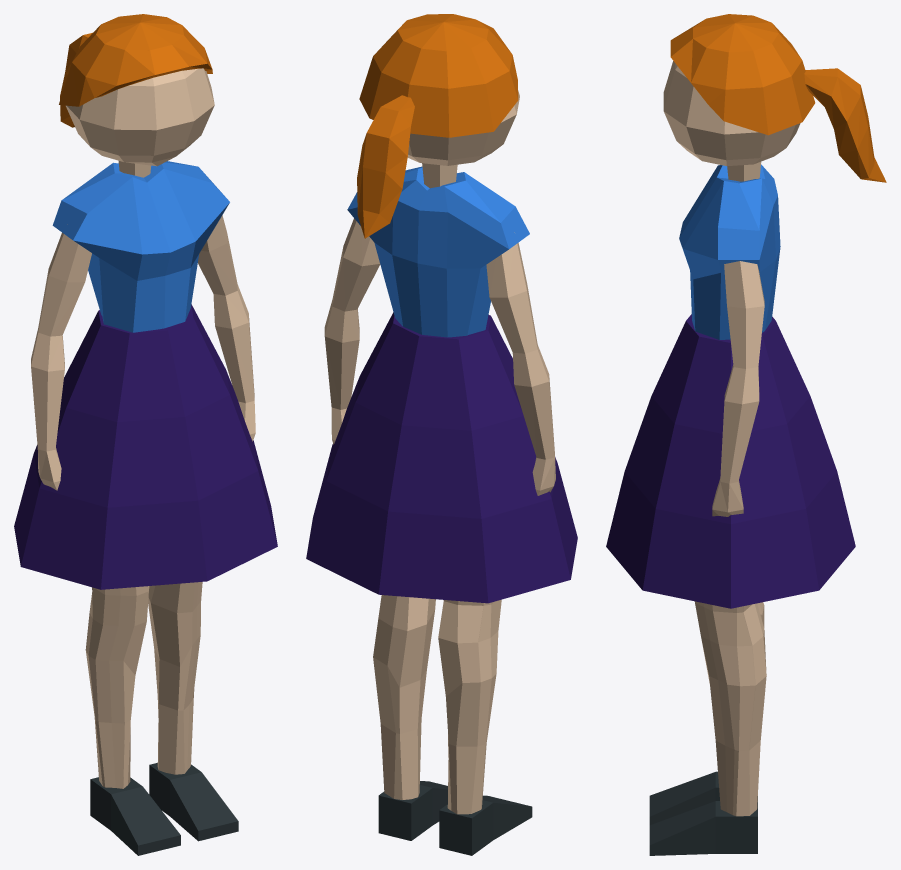
Rendered from Person4.FBX.
The picture shows the model from 3 angles, left to right: view 1: azimuth 30°, elevation 25°; view 2: azimuth 150°, elevation 25°; view 3: azimuth 270°, elevation 25°; orthographic projection. The views are drawn at different scales.
Visible parts, largest first — view 1: Cone001, Box019, Box018, Cylinder014, Sphere009, Sphere010, Box017, Box020, Cylinder017; view 2: Cone001, Box018, Box019, Sphere010, Cylinder014, Cylinder017, Box017, Sphere009, Box020, Cylinder015; view 3: Cone001, Sphere010, Box019, Box018, Cylinder014, Sphere009, Box020, Cylinder017, Box017.
Boxes of the visible parts, x1,y1,x2,y2 form: Cone001: (14, 304, 277, 589); Box019: (52, 161, 229, 332); Box018: (85, 582, 202, 788); Cylinder014: (31, 215, 255, 490); Sphere009: (66, 68, 214, 166); Sphere010: (59, 14, 212, 106); Box017: (90, 777, 180, 855); Box020: (149, 763, 238, 841); Cylinder017: (60, 32, 92, 127); Cone001: (306, 312, 577, 603); Box018: (373, 595, 501, 814); Box019: (347, 166, 529, 337); Sphere010: (359, 14, 518, 137); Cylinder014: (324, 218, 555, 495); Cylinder017: (357, 95, 414, 238); Box017: (439, 795, 532, 855); Sphere009: (407, 90, 519, 165); Box020: (378, 781, 447, 840); Cylinder015: (422, 163, 457, 188); Cone001: (606, 314, 855, 608); Sphere010: (670, 14, 815, 135); Box019: (679, 164, 780, 339); Box018: (694, 601, 766, 816); Cylinder014: (712, 261, 764, 516); Sphere009: (663, 61, 800, 165); Box020: (649, 801, 757, 855); Cylinder017: (804, 68, 886, 182); Box017: (649, 771, 757, 825).
Size of the model in its own units: 1.13 by 1.08 by 3.42.
